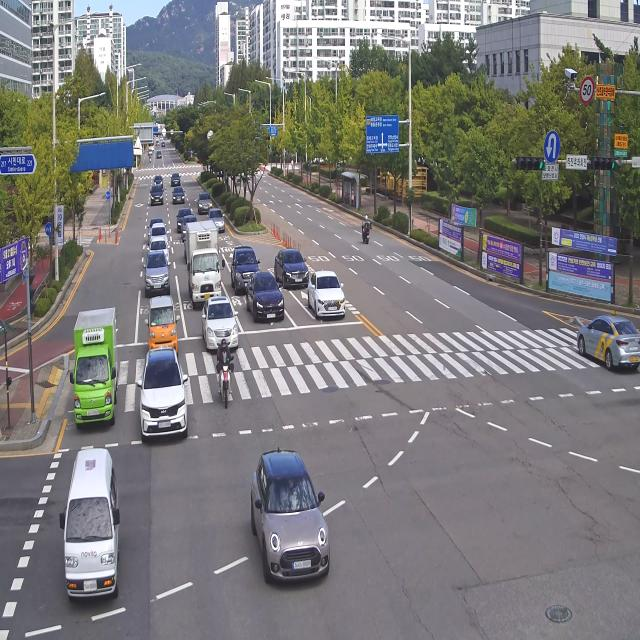Car: (246, 441, 339, 590), (48, 437, 130, 599), (130, 341, 193, 458), (573, 292, 640, 380), (302, 265, 349, 324), (196, 293, 241, 352), (140, 295, 182, 356), (239, 272, 287, 325), (226, 240, 267, 297), (273, 245, 312, 295), (143, 252, 174, 296), (146, 240, 173, 266), (144, 214, 167, 244), (207, 204, 226, 232), (195, 188, 215, 212), (147, 182, 165, 208), (150, 223, 168, 249), (182, 214, 198, 239), (175, 207, 190, 230), (171, 183, 187, 204), (169, 170, 184, 187), (153, 173, 164, 190), (155, 145, 164, 161)
Motorcycle: (210, 332, 241, 409), (356, 214, 376, 249), (148, 154, 153, 166)
Truck: (65, 300, 124, 436), (181, 221, 227, 311)
